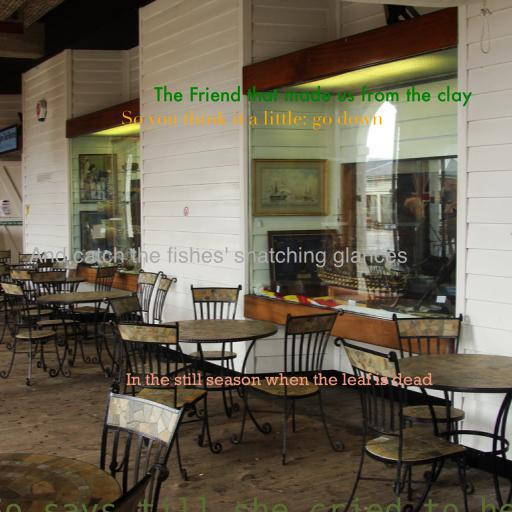Didot: (121, 110, 383, 130)
Futura: (154, 85, 472, 107)
Impact: (28, 247, 408, 268)
Menlo: (0, 497, 512, 512)
Rockwell: (125, 373, 433, 386)
